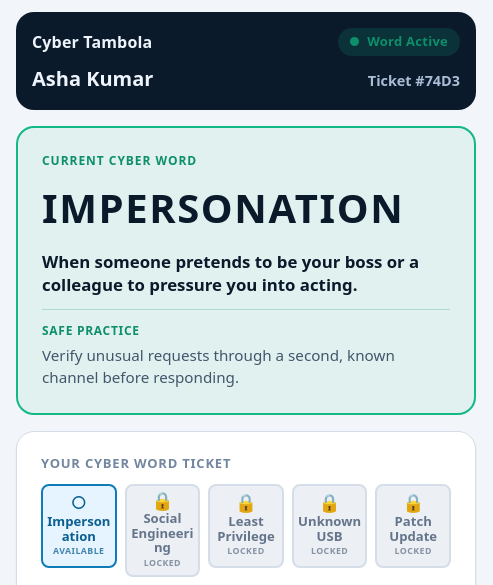
Test case: PlayerGame marking and prize display (module-4-term-marking-prize-engine) › Prize Progress panel reflects real currentPrizeProgress after a mark is created (Req 15.1, 15.2, 15.3)
Click the button "○ Impersonation Available" at (79, 526), box [41, 484, 117, 568]
(page scrolled)
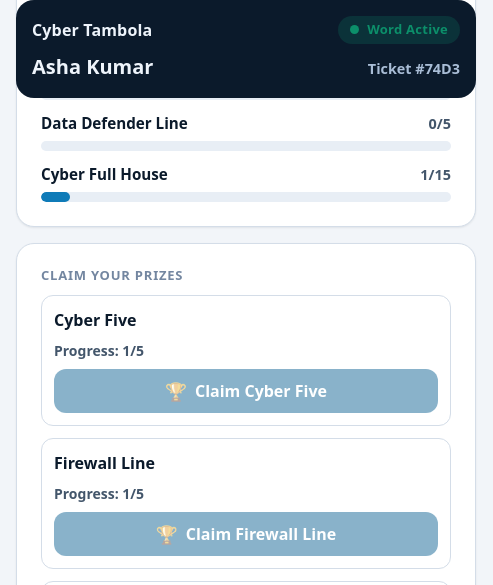
Now the list item "Cyber Five" shows "Progress: 1/5", box [54, 341, 144, 360]
